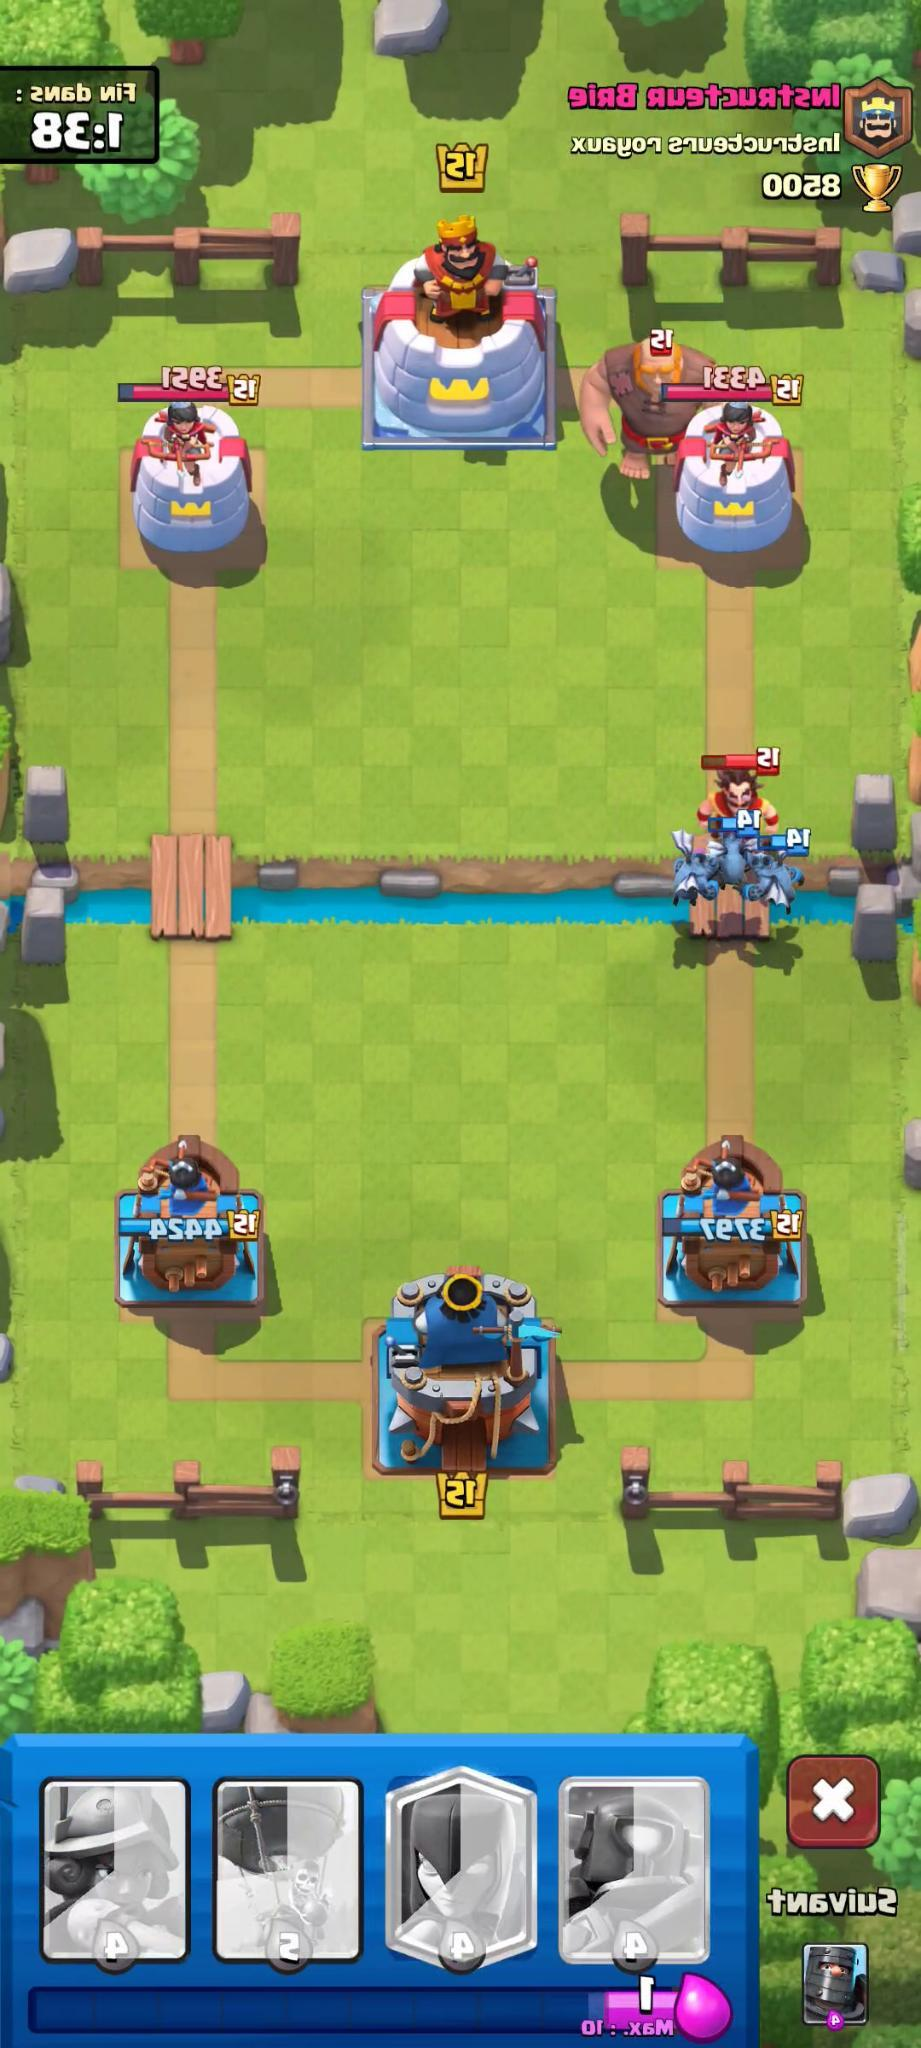enemy_electro_wizard: (688, 737, 785, 825)
enemy_giant: (571, 323, 702, 490)
player_minions: (747, 839, 811, 903), (667, 842, 727, 901), (710, 825, 763, 880)
